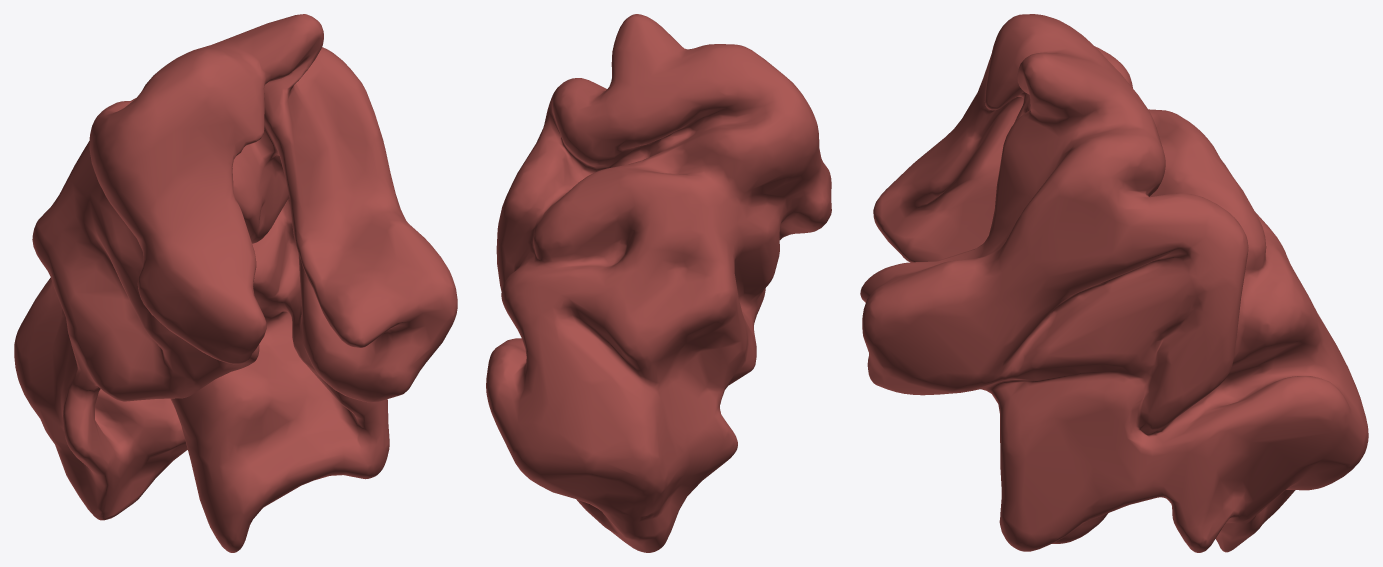
3 renders of one model, left to right at view 1: azimuth 30°, elevation 25°; view 2: azimuth 150°, elevation 25°; view 3: azimuth 270°, elevation 25°, orthographic. The views are drawn at different scales.
Visible parts, largest first — view 1: BP50; view 2: BP50; view 3: BP50.
Part boxes in pixels (left/top/right/bottom): BP50: left=14, top=14, right=457, bottom=552; BP50: left=486, top=14, right=831, bottom=552; BP50: left=860, top=14, right=1368, bottom=552.
Bounding box in the file's own units: 0.0346 × 0.0639 × 0.0542.
